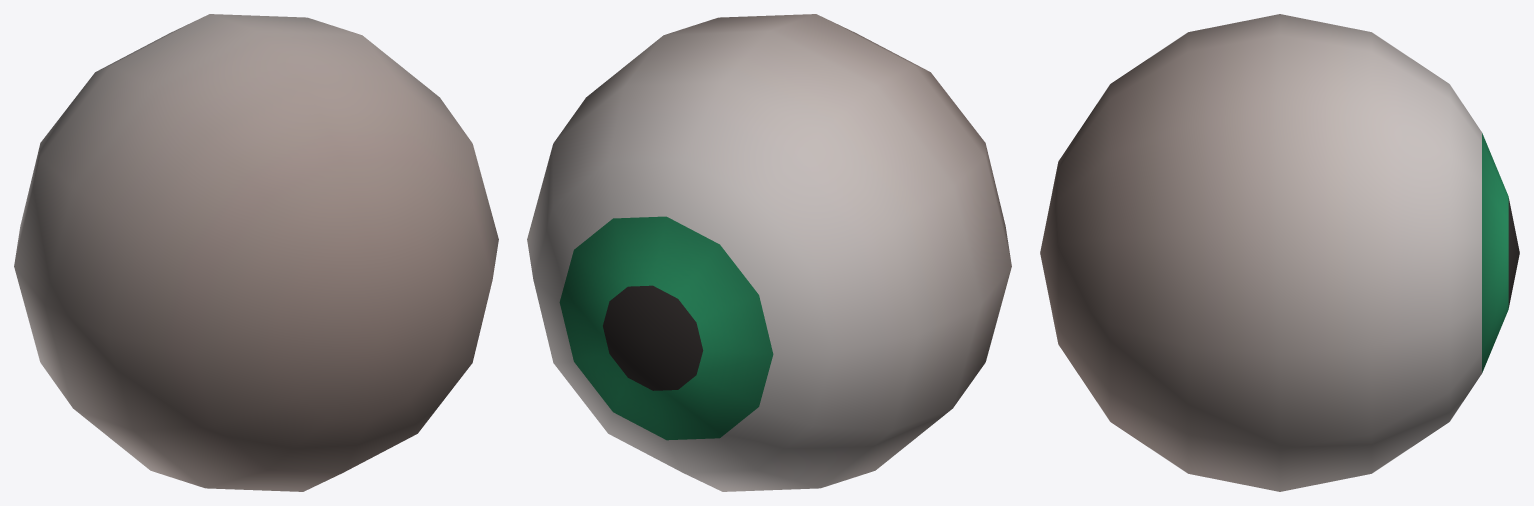
The model's file is Eyeball2.fbx.
3 renders of one model, left to right at view 1: azimuth 30°, elevation 25°; view 2: azimuth 150°, elevation 25°; view 3: azimuth 270°, elevation 25°, orthographic.
Visible parts, largest first — view 1: Eyeball2; view 2: Eyeball2; view 3: Eyeball2.
Boxes of the visible parts, x1,y1,x2,y2 form: Eyeball2: (14,14,498,491); Eyeball2: (527,14,1011,491); Eyeball2: (1040,14,1519,491).
Bounding box in the file's own units: 3 × 3 × 3.
